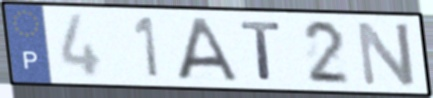1: (131, 15, 162, 81)
2: (300, 18, 353, 87)
4: (58, 11, 109, 82)
A: (175, 16, 241, 82)
N: (354, 18, 419, 89)
T: (237, 19, 285, 83)
